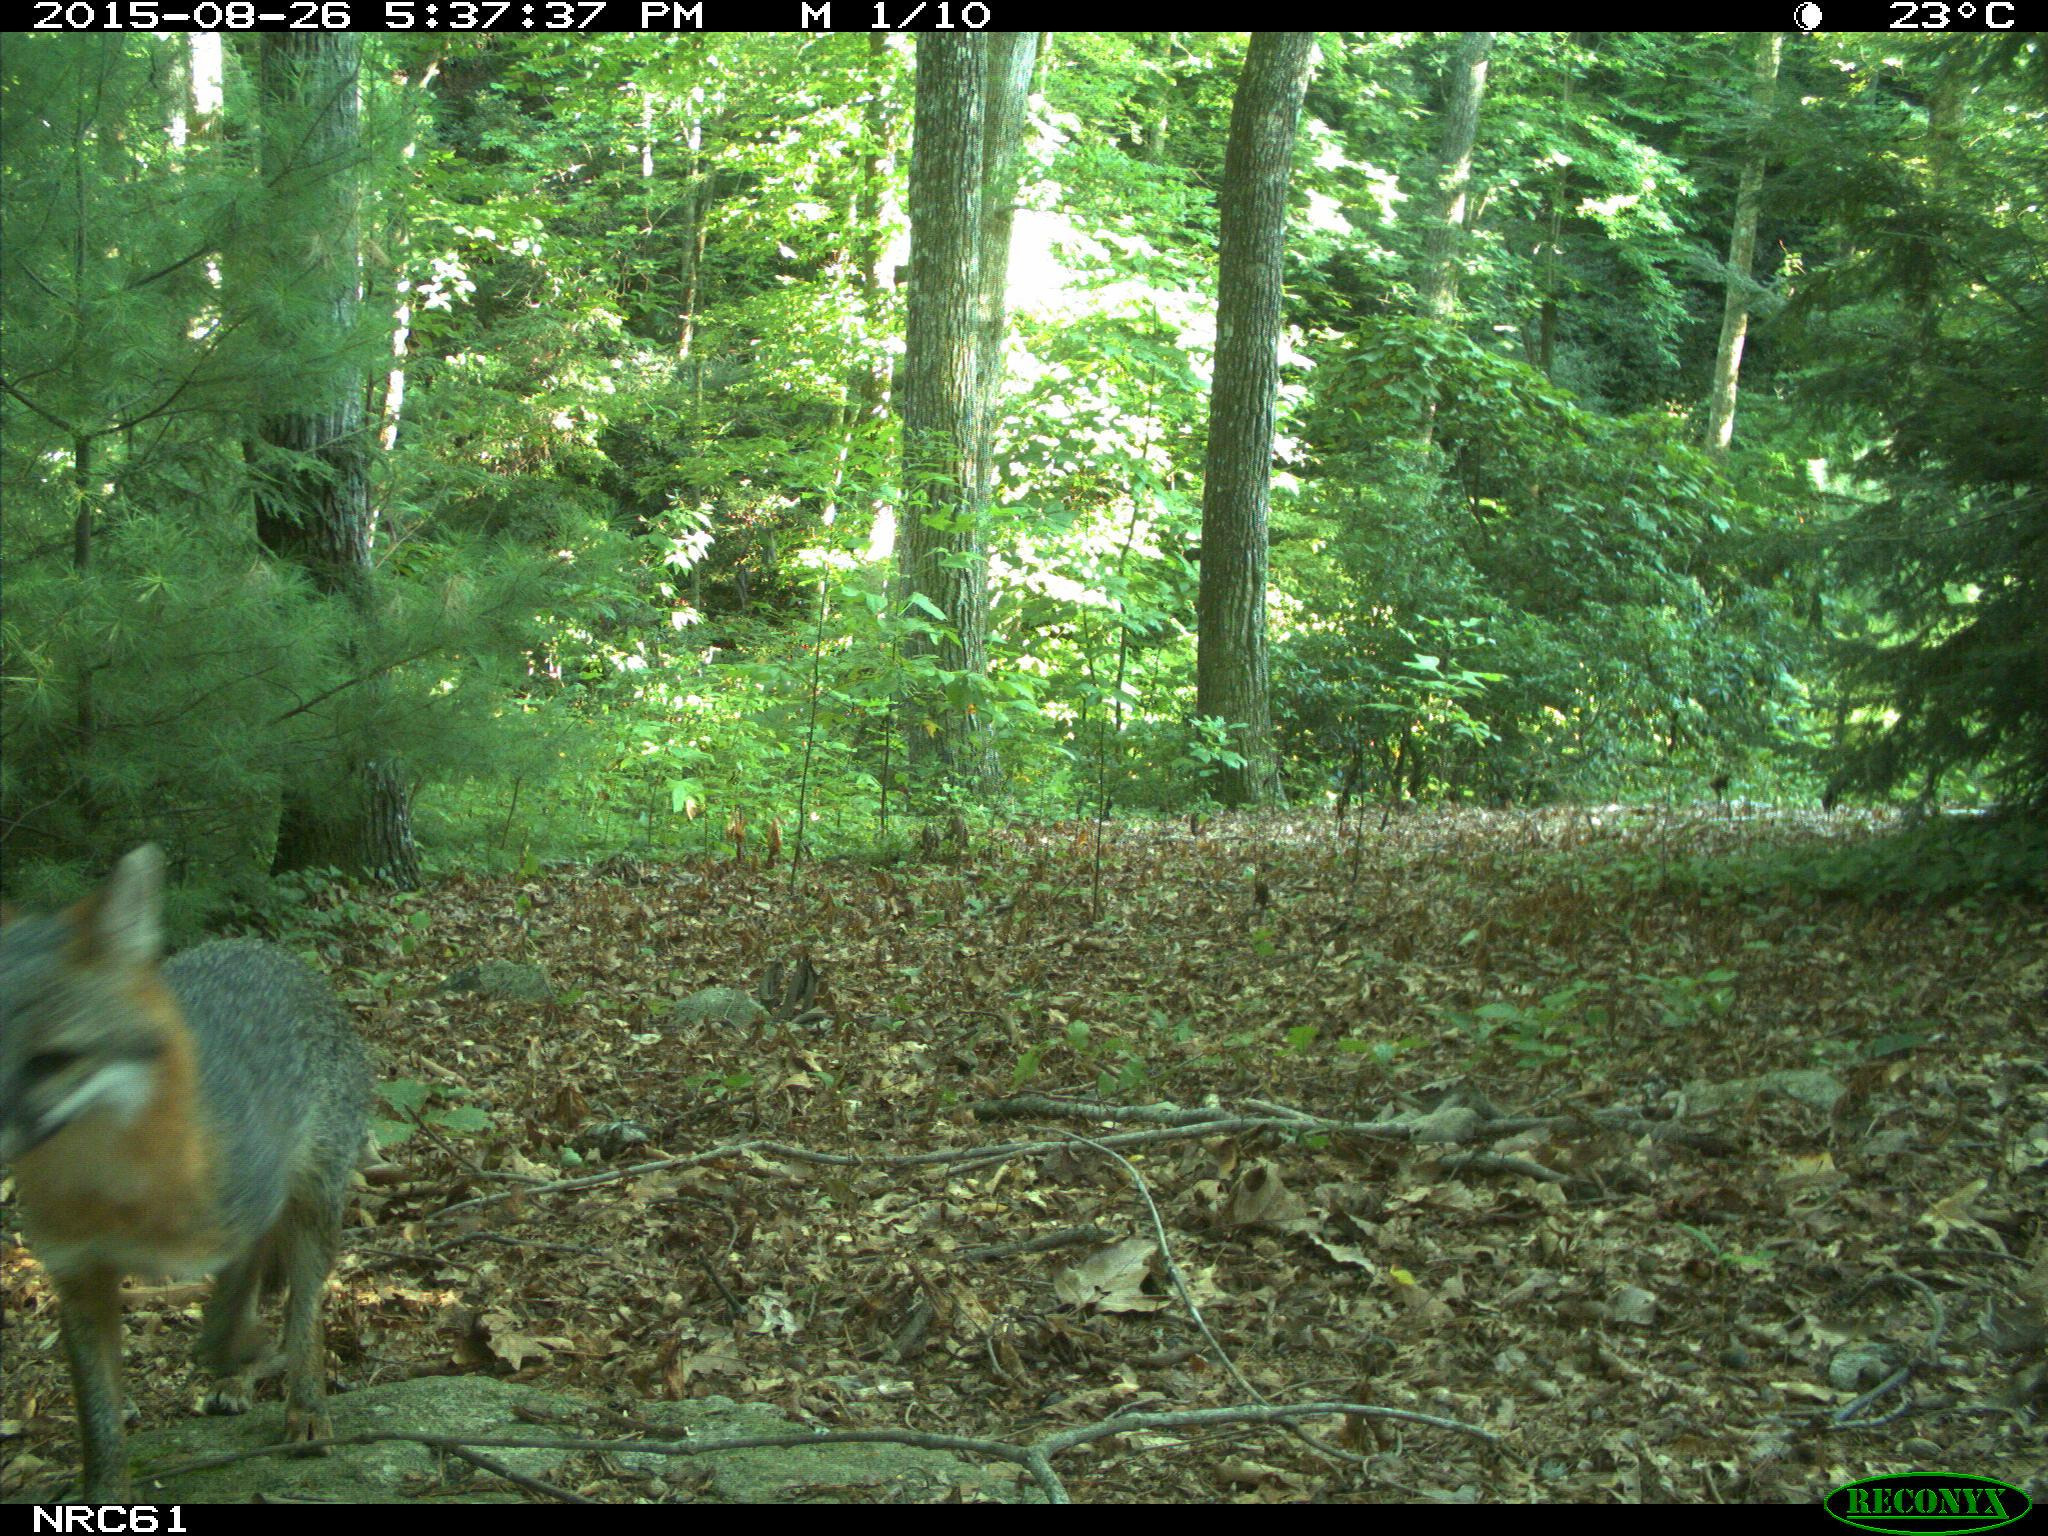Animal: (2, 839, 376, 1504)
